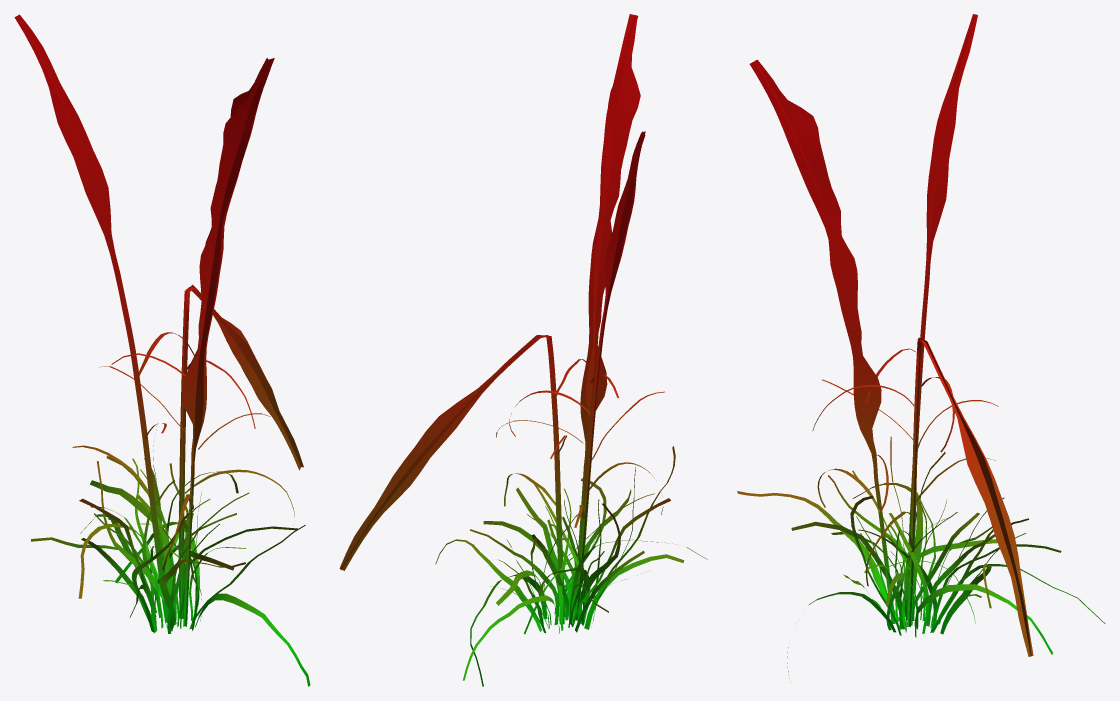
The model's file is Wheat_LOD0_Var4_smdoejyr.fbx.
3 renders of one model, left to right at view 1: azimuth 30°, elevation 25°; view 2: azimuth 150°, elevation 25°; view 3: azimuth 270°, elevation 25°, orthographic. The views are drawn at different scales.
Parts seen in each view (by area): view 1: _mi9z_Var4_LOD0; view 2: _mi9z_Var4_LOD0; view 3: _mi9z_Var4_LOD0.
Boxes of the visible parts, x1=… form: _mi9z_Var4_LOD0: x1=14, y1=14, x2=310, y2=686; _mi9z_Var4_LOD0: x1=339, y1=14, x2=707, y2=686; _mi9z_Var4_LOD0: x1=737, y1=14, x2=1105, y2=675.
Bounding box in the file's own units: 29.78 × 58.23 × 32.42.
